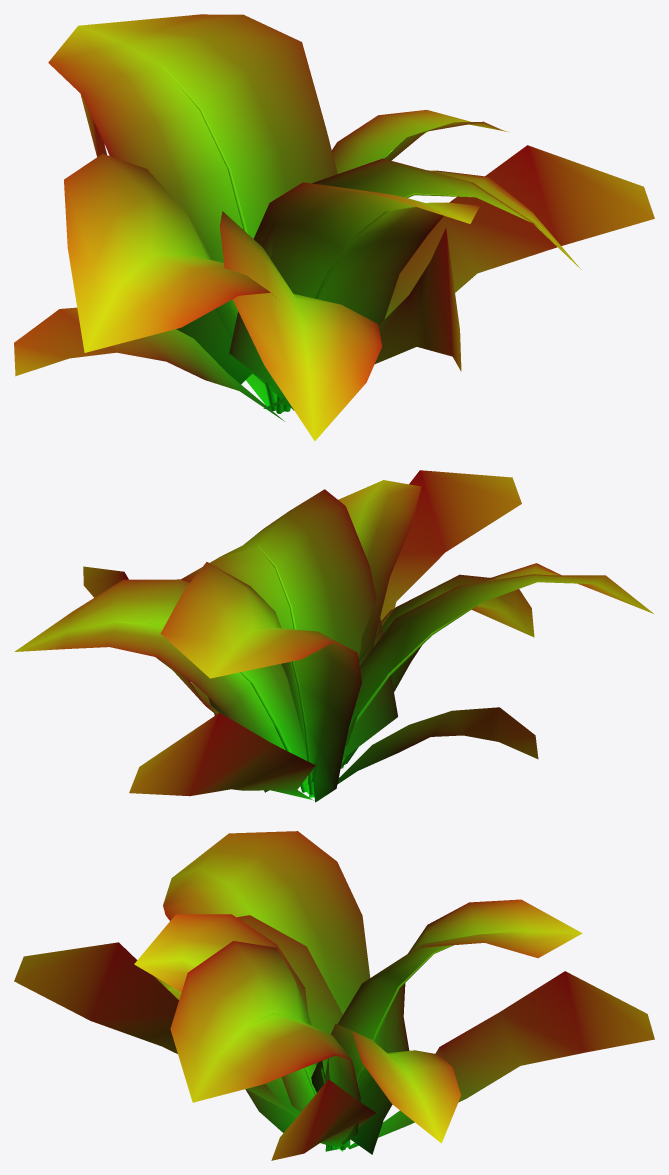
The model's file is Silver Lady Fern_LOD1_Var2_ubolejkia.fbx.
3 renders of one model, top to bottom at view 1: azimuth 30°, elevation 25°; view 2: azimuth 150°, elevation 25°; view 3: azimuth 270°, elevation 25°, orthographic. The views are drawn at different scales.
Visible parts, largest first — view 1: _02a0_Var2_LOD1; view 2: _02a0_Var2_LOD1; view 3: _02a0_Var2_LOD1.
Part boxes in pixels (<box>): _02a0_Var2_LOD1: <box>14,14,654,440</box>; _02a0_Var2_LOD1: <box>14,470,653,802</box>; _02a0_Var2_LOD1: <box>14,831,654,1160</box>.
Size of the model in its own units: 153 by 72.42 by 180.
